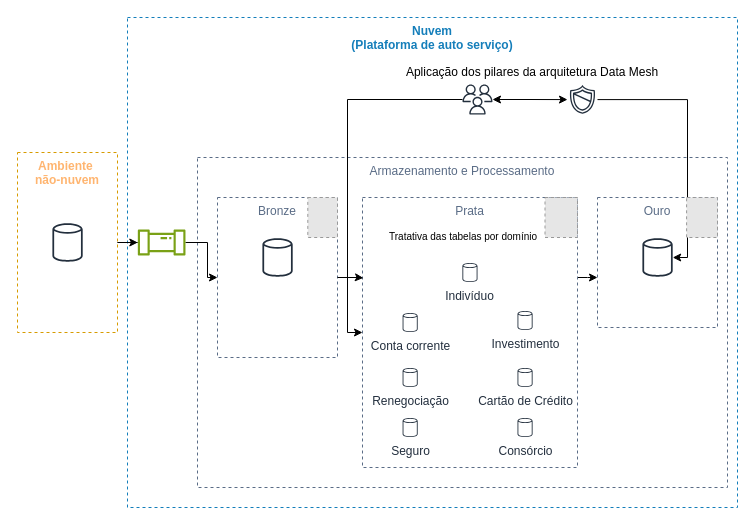
This 755x525 diagram has some shape labels left out. Grey dashed boxes stand in for pictures. The centre of each missing label's shape, as x and y in pixels:
Dado bruto não migrado: point 67,242
Dados agregados para negócios: point 657,257
Descentralização por domínios: point 477,99
Governança federada: point 582,99
Ingestão: point 161,242
Tabelas sem esquema definido: point 277,257
